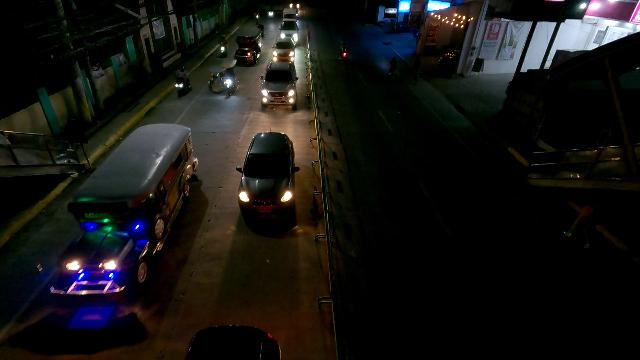car: (237, 130, 297, 220), (259, 60, 299, 111), (278, 20, 300, 47), (272, 38, 296, 62)
jeepney: (36, 121, 199, 300), (233, 29, 263, 63)
motorcycle: (174, 67, 192, 99), (338, 42, 348, 64), (220, 35, 228, 59)
van: (282, 7, 298, 24)
